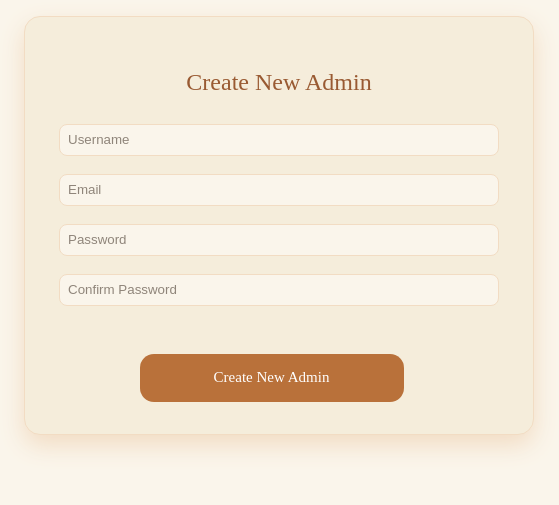
it: CreateNewAdminForm › shows Email is required when email is empty and does not submit
Type "Jane Admin" into the field with placeholder "Username".
click(279, 140); type("Jane Admin")  # box [59,124,499,156]
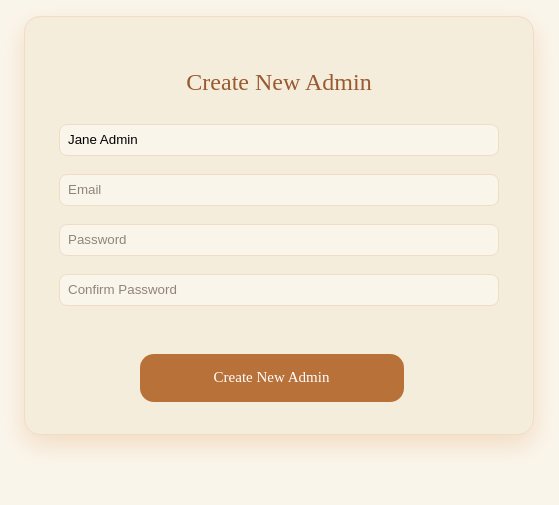
Type "Abcdef1234" into the password field with placeholder "Password".
click(279, 240); type("Abcdef1234")  # box [59,224,499,256]
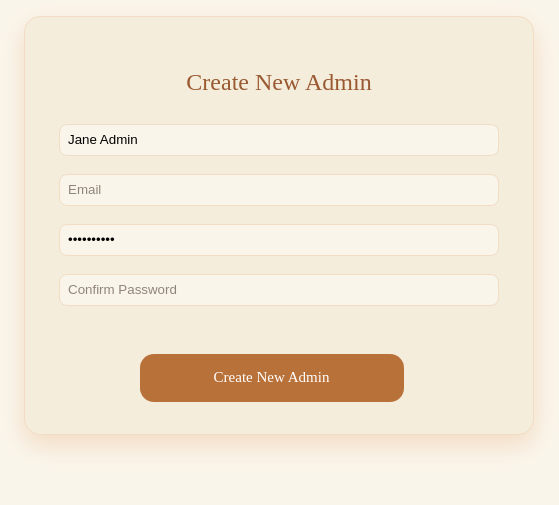
Type "Abcdef1234" into the password field with placeholder "Confirm Password".
click(279, 290); type("Abcdef1234")  # box [59,274,499,306]
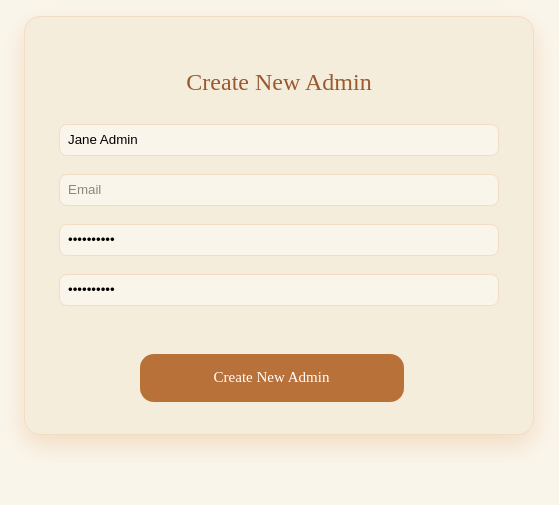
Click the button "Create New Admin".
click(272, 378)  # box [140,354,404,402]
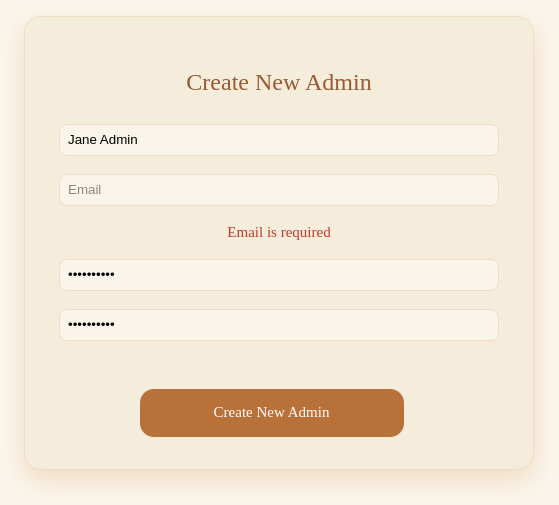
Now the text "Email is required" is shown, box [227,224,331,241]
